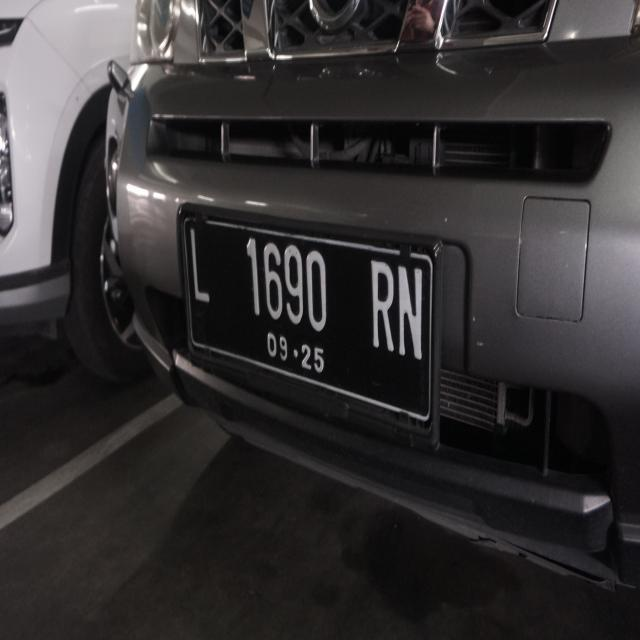0: (302, 241, 333, 338)
1: (239, 222, 265, 326)
6: (258, 236, 284, 321)
9: (282, 234, 306, 328)
L: (179, 211, 218, 322)
N: (391, 250, 428, 370)
R: (364, 244, 396, 357)
